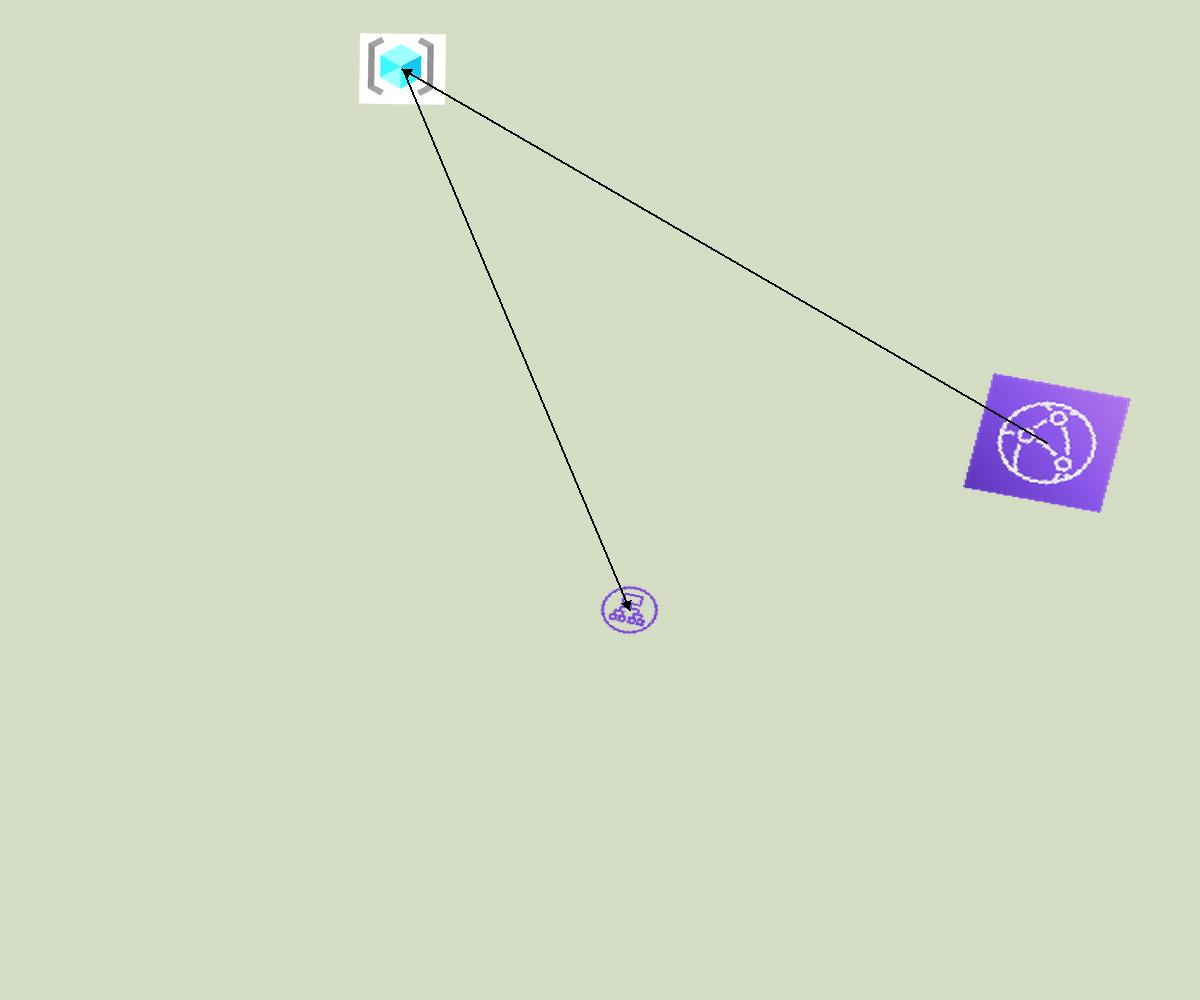AWS-CloudFront: (963, 373, 1131, 513)
AWS-Res_Elastic-Load-Balancing_Application-Load-Balancer: (591, 578, 668, 642)
Azure_resource_group: (359, 33, 446, 105)
